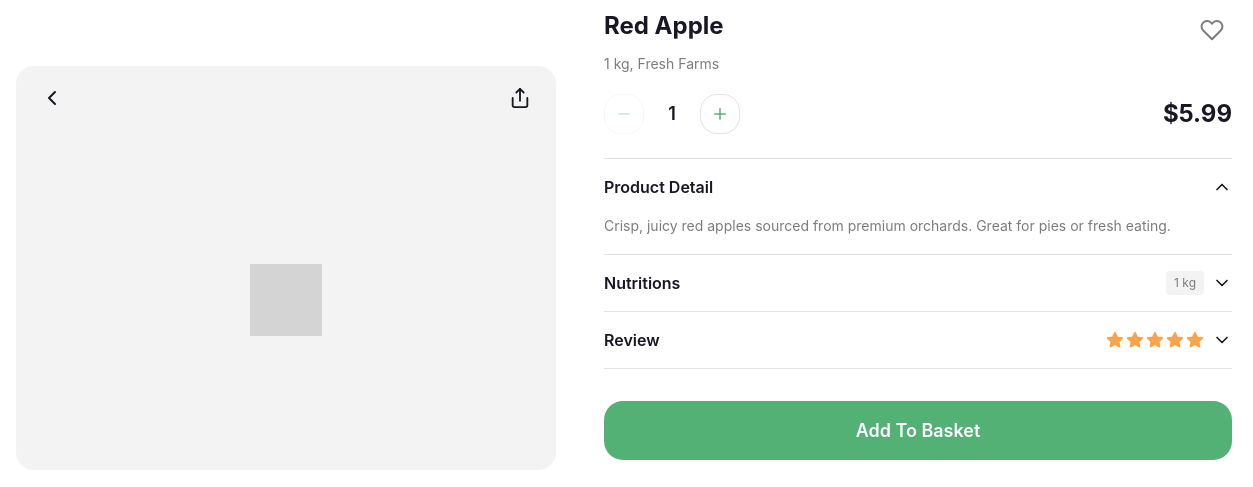
it: ProductDetailPage › collapses and expands the Product Detail accordion
Collapse it
Click the button "Product Detail".
click(659, 187)  # box [604,159,1232,215]
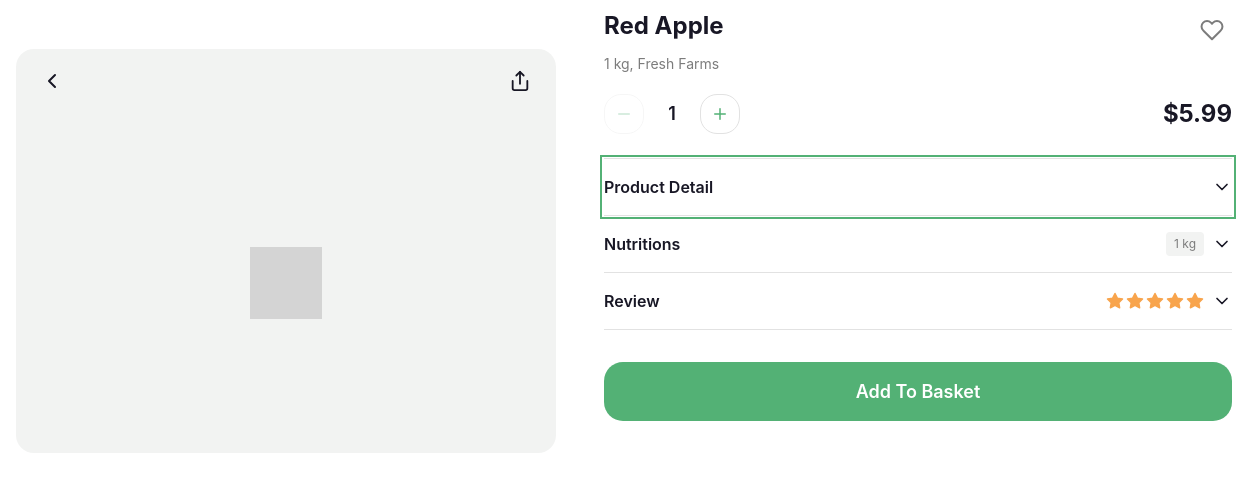
Expected: the button "Product Detail" is collapsed
Expand again
Click the button "Product Detail".
click(659, 187)  # box [604,159,1232,215]
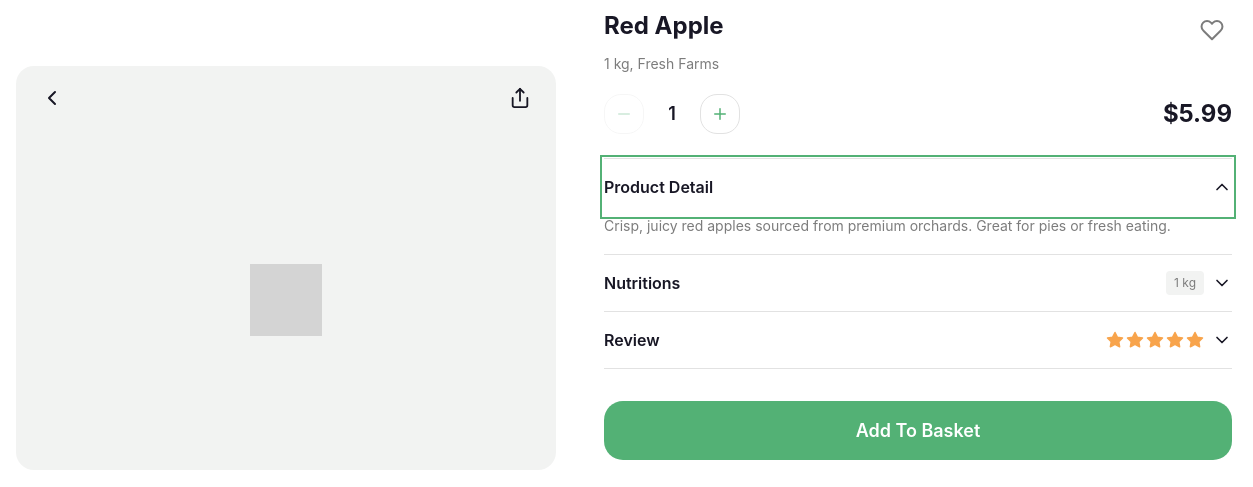
Expected: the button "Product Detail" is expanded, [604,159,1232,215]
